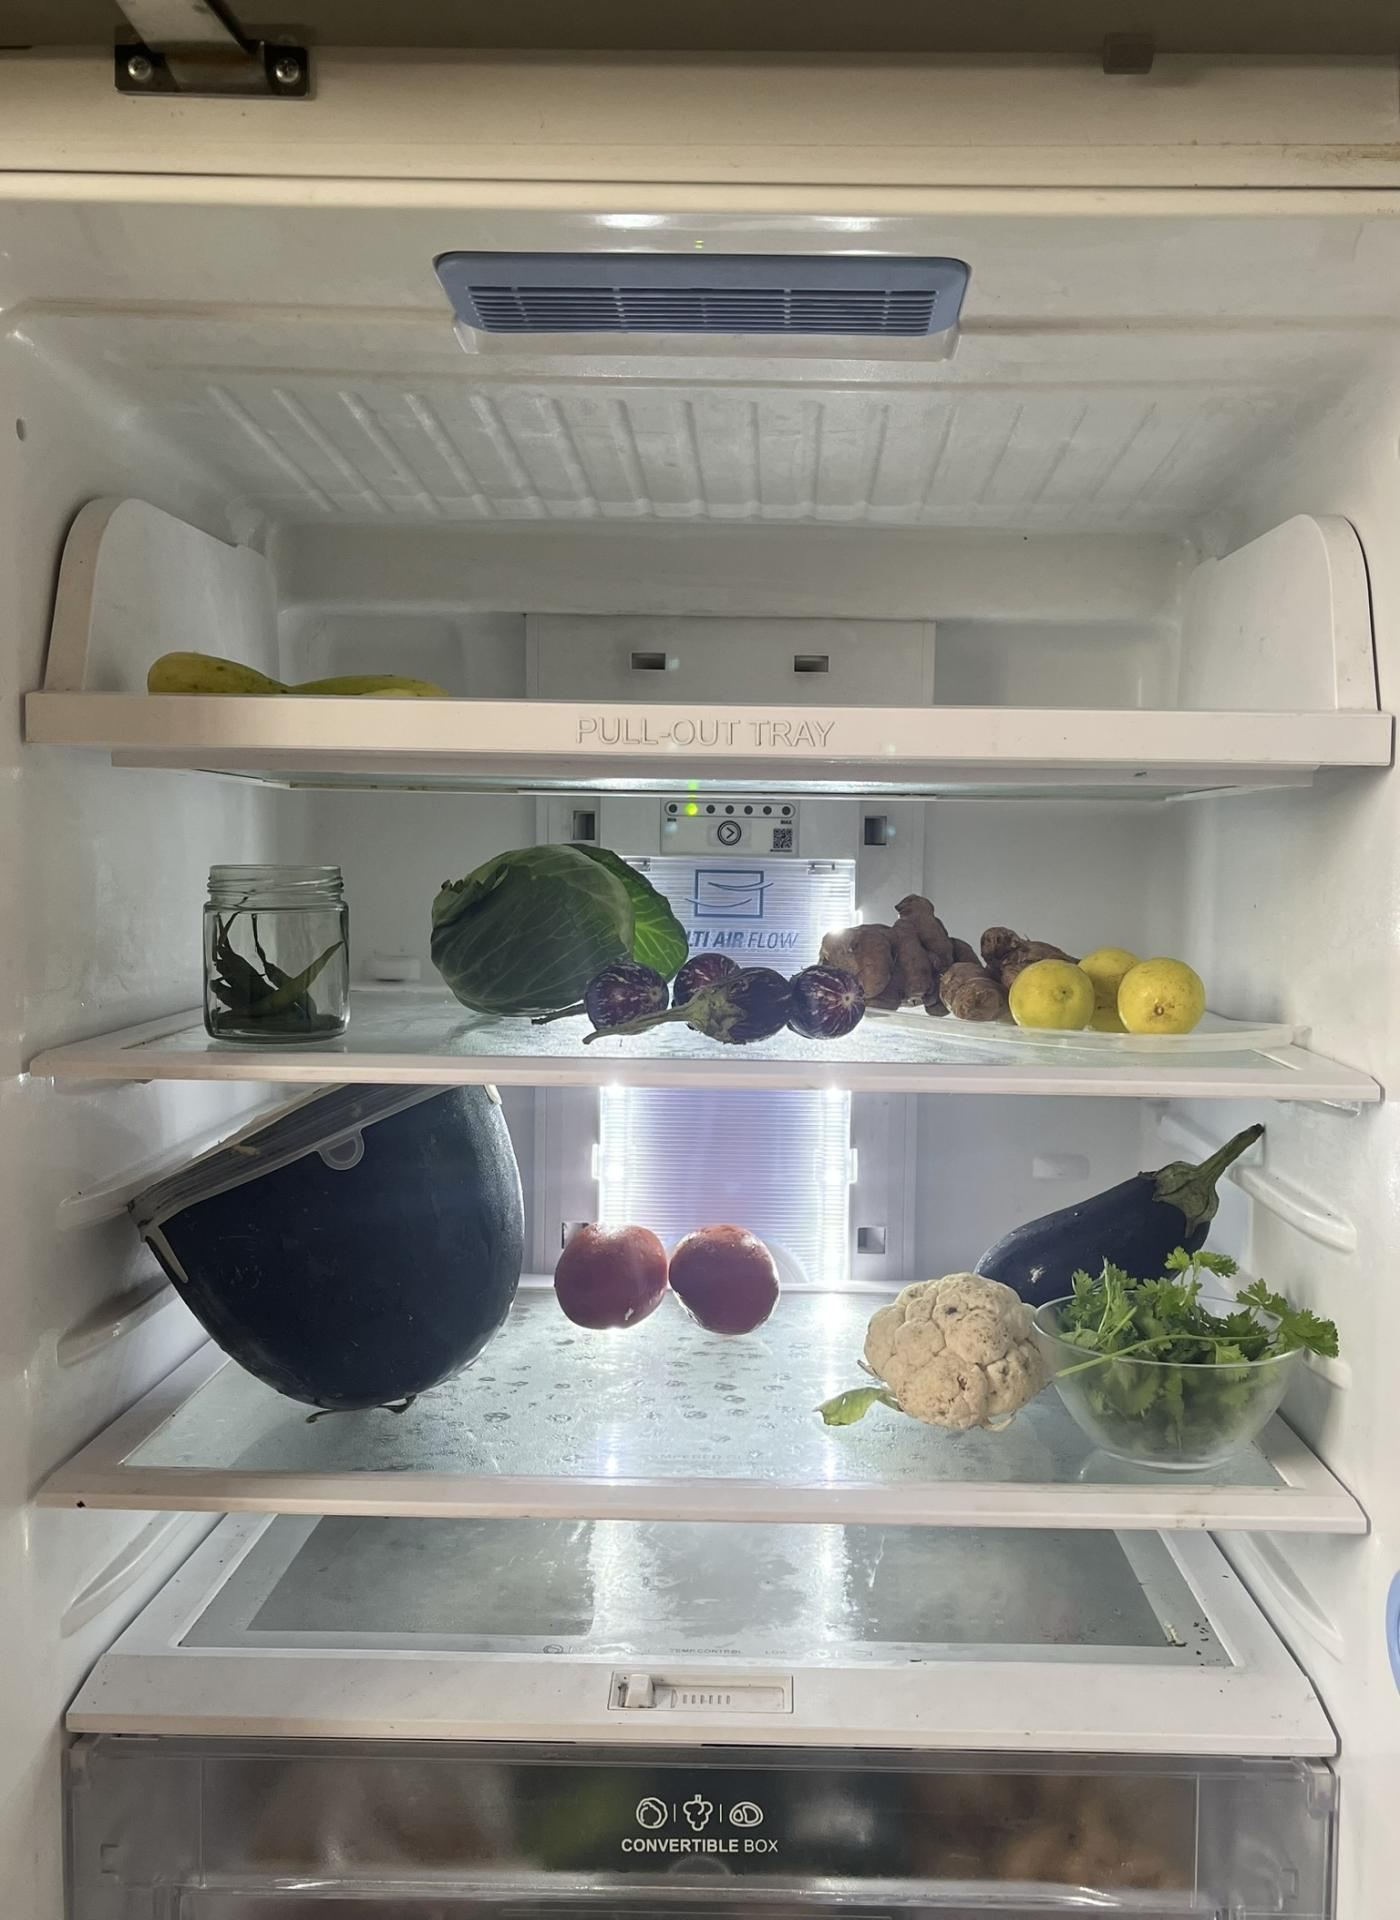brinjal: (968, 1139, 1270, 1315), (559, 963, 872, 1038)
cabbage: (428, 842, 692, 999)
cauliflower: (841, 1275, 1051, 1437)
chillies: (206, 890, 347, 1042)
coriander: (1047, 1251, 1336, 1447), (143, 647, 446, 698)
ginger: (826, 900, 1033, 1029)
lemon: (1008, 945, 1214, 1035)
tomato: (669, 1218, 793, 1336), (555, 1218, 677, 1328)
watermelon: (118, 1087, 526, 1409)
